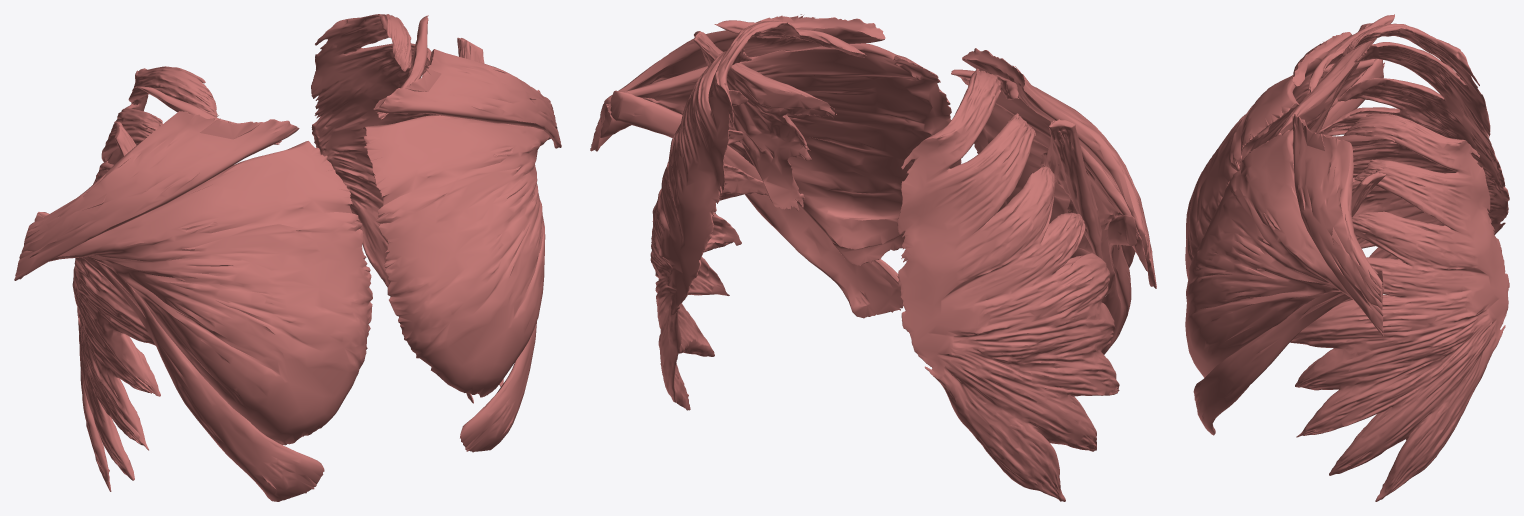
Rendered from muscular-torso-anterior.glb.
The picture shows the model from 3 angles, left to right: view 1: azimuth 30°, elevation 25°; view 2: azimuth 150°, elevation 25°; view 3: azimuth 270°, elevation 25°; orthographic projection. The views are drawn at different scales.
Parts seen in each view (by area): view 1: bp3d_FMA79979_FJ1464, bp3d_FMA79980_FJ1464M, bp3d_FMA13398_FJ1459, bp3d_FMA34690_FJ1447, bp3d_FMA13399_FJ1459M, bp3d_FMA45874_FJ1446, bp3d_FMA34691_FJ1447M, bp3d_FMA45875_FJ1446M, bp3d_FMA13411_FJ1460M, bp3d_FMA13412_FJ1460; view 2: bp3d_FMA13398_FJ1459, bp3d_FMA79980_FJ1464M, bp3d_FMA13399_FJ1459M, bp3d_FMA45875_FJ1446M, bp3d_FMA13376_FJ1456M, bp3d_FMA79979_FJ1464, bp3d_FMA34691_FJ1447M, bp3d_FMA34690_FJ1447, bp3d_FMA13375_FJ1456, bp3d_FMA45874_FJ1446, bp3d_FMA13411_FJ1460M; view 3: bp3d_FMA13399_FJ1459M, bp3d_FMA79980_FJ1464M, bp3d_FMA13398_FJ1459, bp3d_FMA34691_FJ1447M, bp3d_FMA79979_FJ1464, bp3d_FMA45875_FJ1446M, bp3d_FMA13375_FJ1456, bp3d_FMA34690_FJ1447, bp3d_FMA13412_FJ1460, bp3d_FMA45874_FJ1446, bp3d_FMA13376_FJ1456M, bp3d_FMA13411_FJ1460M.
Boxes of the visible parts, <box> form: bp3d_FMA79979_FJ1464: <box>43,141,372,445</box>; bp3d_FMA79980_FJ1464M: <box>363,115,550,397</box>; bp3d_FMA13398_FJ1459: <box>72,66,217,491</box>; bp3d_FMA34690_FJ1447: <box>14,111,299,280</box>; bp3d_FMA13399_FJ1459M: <box>311,14,503,403</box>; bp3d_FMA45874_FJ1446: <box>34,212,324,501</box>; bp3d_FMA34691_FJ1447M: <box>373,49,561,148</box>; bp3d_FMA45875_FJ1446M: <box>460,90,540,452</box>; bp3d_FMA13411_FJ1460M: <box>377,15,428,119</box>; bp3d_FMA13412_FJ1460: <box>134,86,281,144</box>; bp3d_FMA13398_FJ1459: <box>897,68,1119,501</box>; bp3d_FMA79980_FJ1464M: <box>600,43,961,265</box>; bp3d_FMA13399_FJ1459M: <box>650,20,800,410</box>; bp3d_FMA45875_FJ1446M: <box>610,90,903,318</box>; bp3d_FMA13376_FJ1456M: <box>693,31,836,211</box>; bp3d_FMA79979_FJ1464: <box>951,69,1147,295</box>; bp3d_FMA34691_FJ1447M: <box>590,14,885,151</box>; bp3d_FMA34690_FJ1447: <box>962,48,1156,288</box>; bp3d_FMA13375_FJ1456: <box>1040,119,1102,259</box>; bp3d_FMA45874_FJ1446: <box>1101,214,1137,354</box>; bp3d_FMA13411_FJ1460M: <box>714,20,866,57</box>; bp3d_FMA13399_FJ1459M: <box>1290,113,1509,501</box>; bp3d_FMA79980_FJ1464M: <box>1185,129,1384,377</box>; bp3d_FMA13398_FJ1459: <box>1317,23,1509,302</box>; bp3d_FMA34691_FJ1447M: <box>1292,114,1383,336</box>; bp3d_FMA79979_FJ1464: <box>1185,59,1384,279</box>; bp3d_FMA45875_FJ1446M: <box>1193,268,1383,435</box>; bp3d_FMA13375_FJ1456: <box>1277,23,1376,148</box>; bp3d_FMA34690_FJ1447: <box>1292,32,1371,86</box>; bp3d_FMA13412_FJ1460: <box>1307,14,1394,95</box>; bp3d_FMA45874_FJ1446: <box>1321,58,1383,128</box>; bp3d_FMA13376_FJ1456M: <box>1351,172,1385,217</box>; bp3d_FMA13411_FJ1460M: <box>1319,134,1394,147</box>.
Size of the model in its own units: 0.3885 by 0.2702 by 0.2246.
